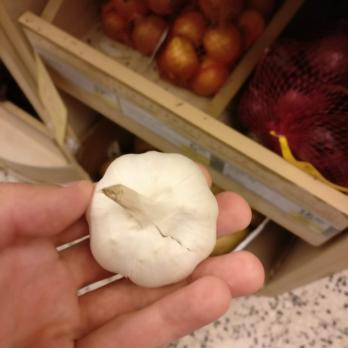Garlic: (84, 147, 221, 289)
